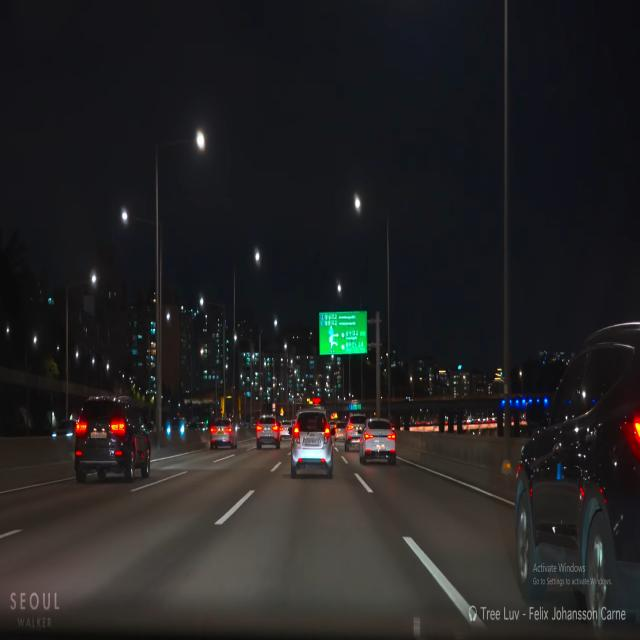headlights: (164, 419, 189, 439)
